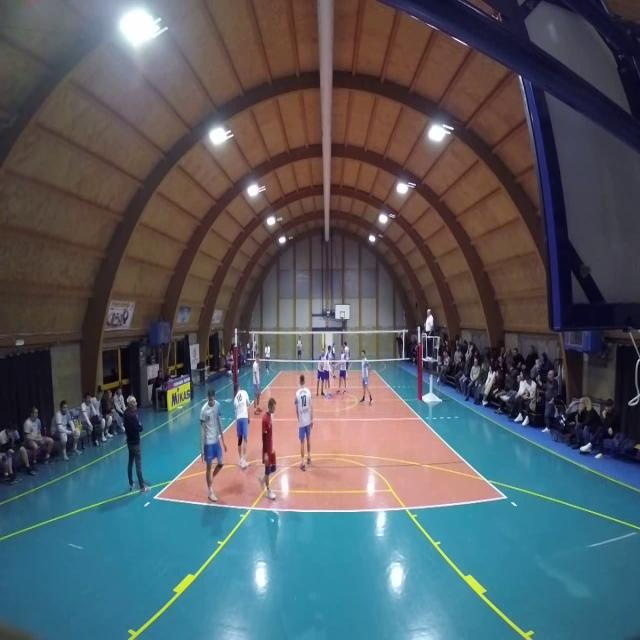serve: (296, 336, 302, 364)
